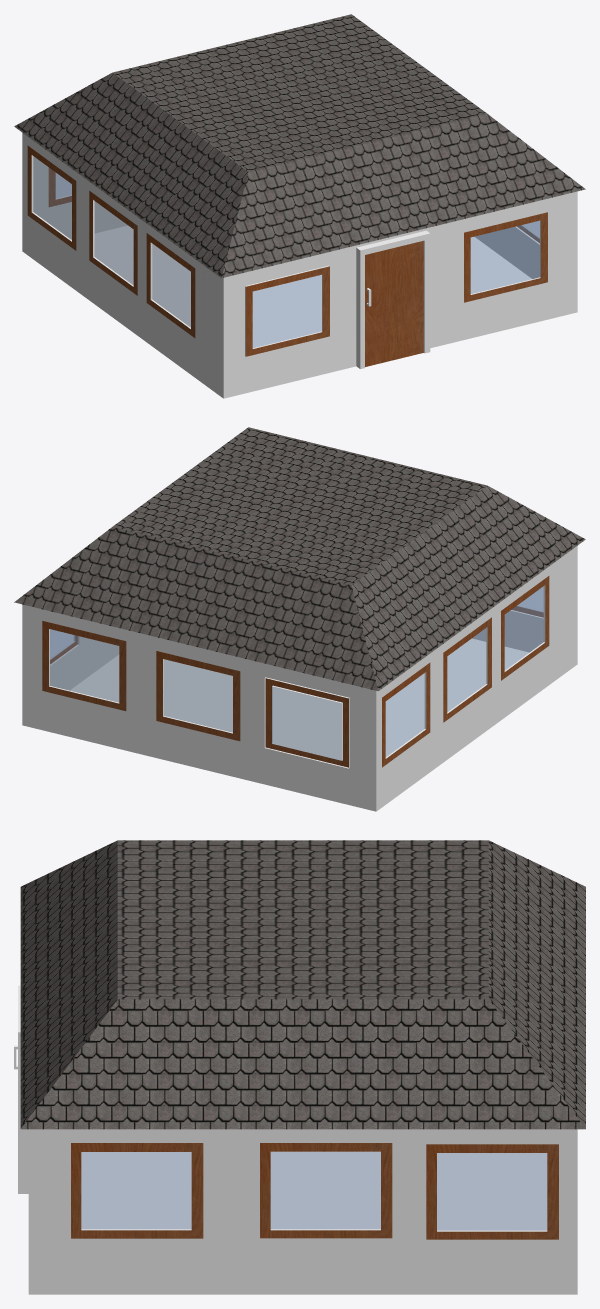
The model's file is New test house.glb.
3 views of the same model, one above another, from view 1: azimuth 30°, elevation 25°; view 2: azimuth 150°, elevation 25°; view 3: azimuth 270°, elevation 25° (orthographic). The views are drawn at different scales.
Parts seen in each view (by area): view 1: Node #3, Node #2, Node #4, Node #1; view 2: Node #3, Node #2, Node #1, Node #4; view 3: Node #3, Node #2, Node #1, Node #4.
Boxes of the visible parts, x1,y1,x2,y2 form: Node #3: (14,14,585,278); Node #2: (22,133,577,398); Node #4: (27,145,547,366); Node #1: (33,156,539,347); Node #3: (14,427,585,691); Node #2: (22,546,577,811); Node #1: (50,586,543,760); Node #4: (42,576,549,767); Node #3: (20,840,585,1129); Node #2: (14,985,577,1294); Node #1: (81,1151,547,1230); Node #4: (71,1143,558,1239).
Size of the model in its own units: 7.02 by 3.47 by 7.
Materials: 4 (2 with a texture image).
